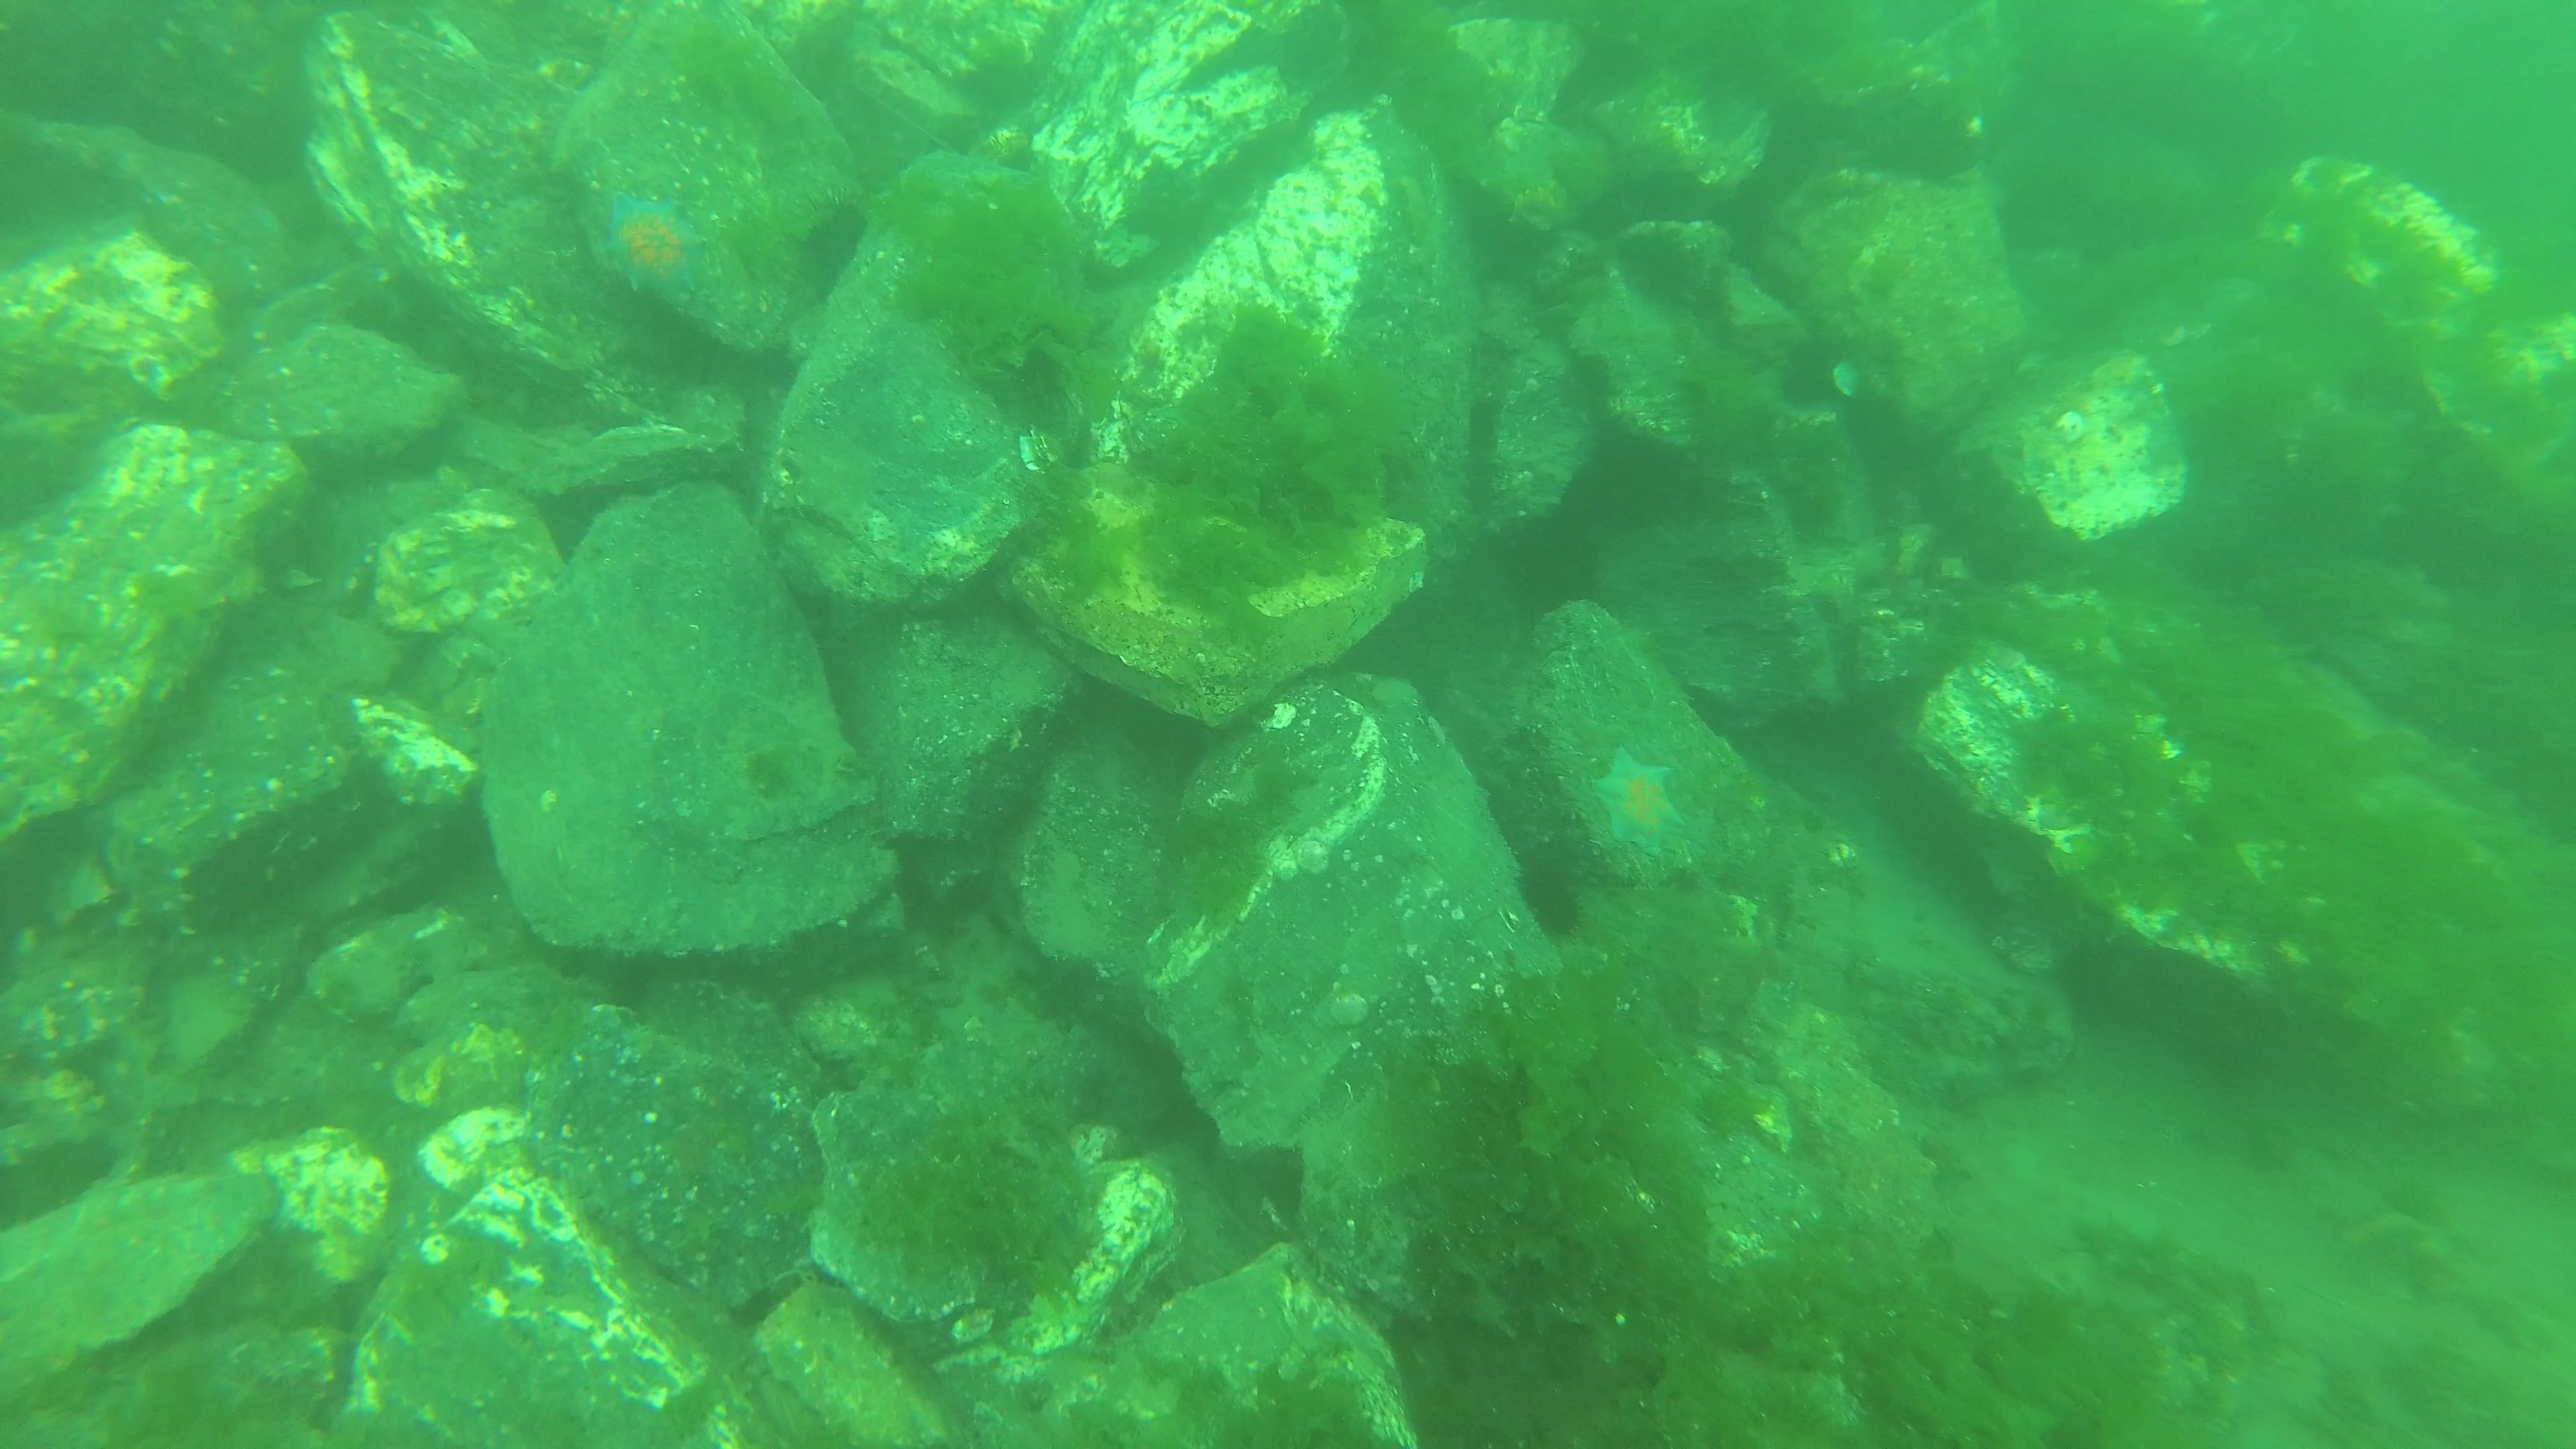echinus: (1507, 849, 1592, 947)
starfish: (589, 186, 715, 303), (1583, 738, 1693, 860)
